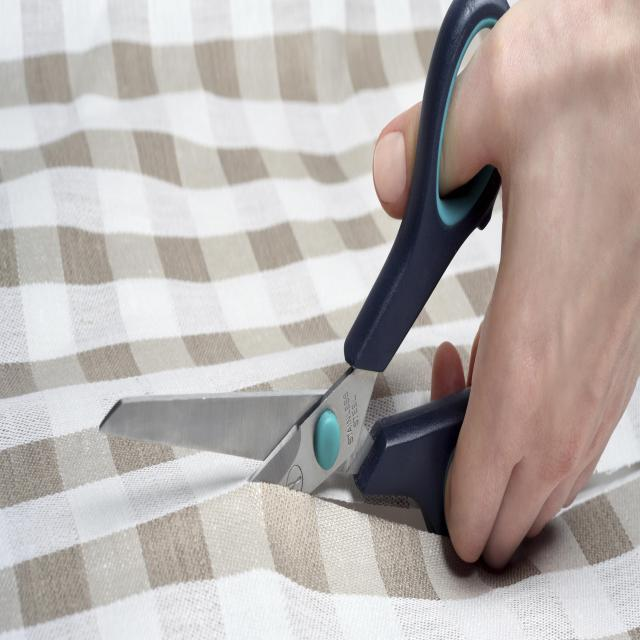tesoura: (95, 0, 547, 570)
